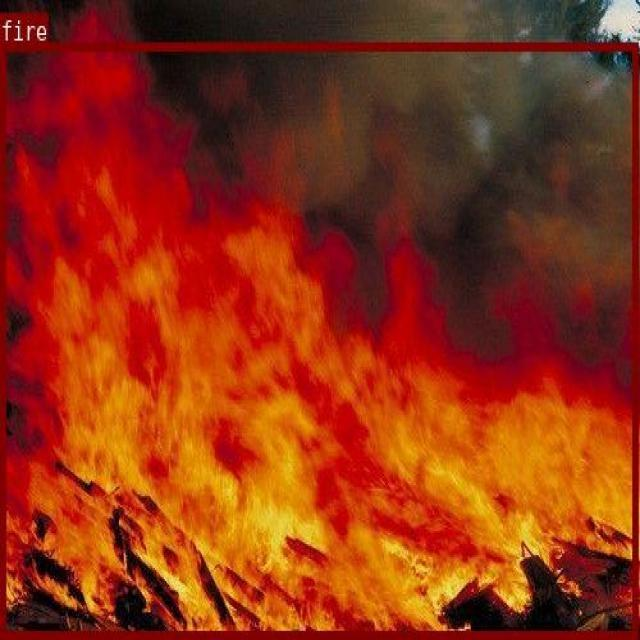fire: (0, 41, 636, 636)
